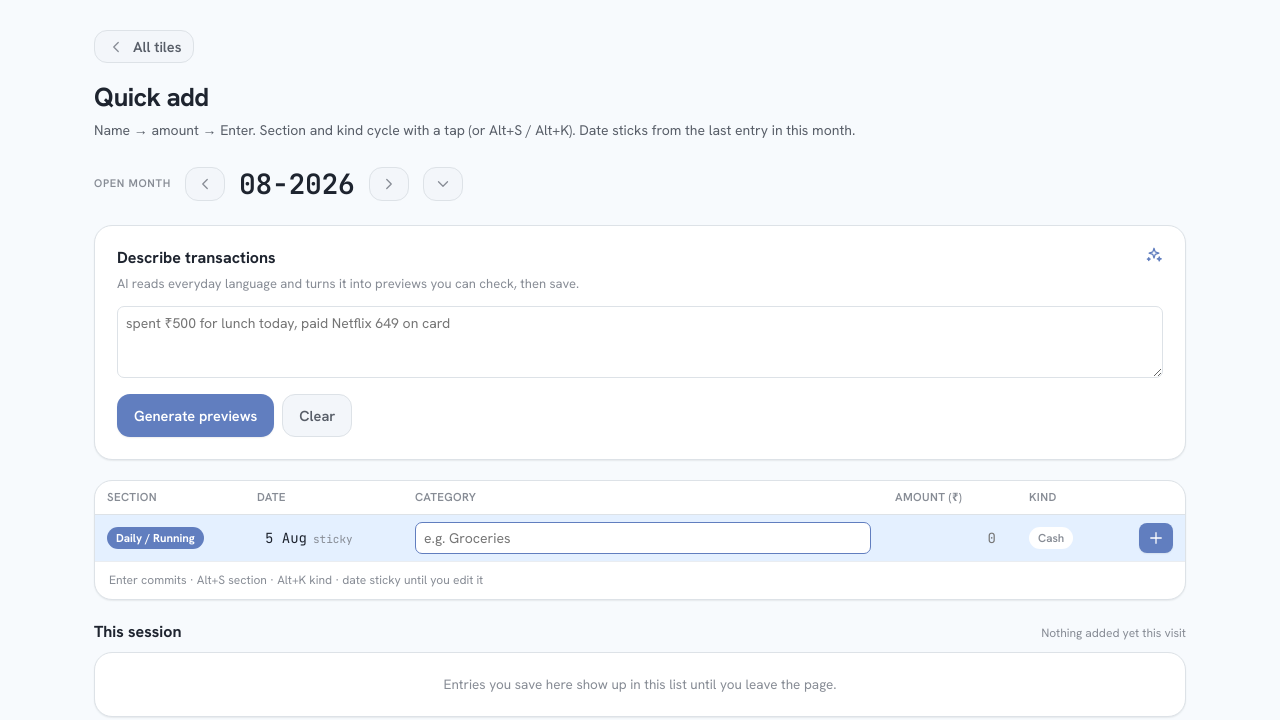
Test: RecordEntryPage AI previews › sends the local reference date and does not create until save
Expected: the heading "Quick add" is shown, [94,80,208,114]
Type "spent 500 on lunch" into the text box labelled "Describe transactions" at (640, 342), box [117,306,1163,378]
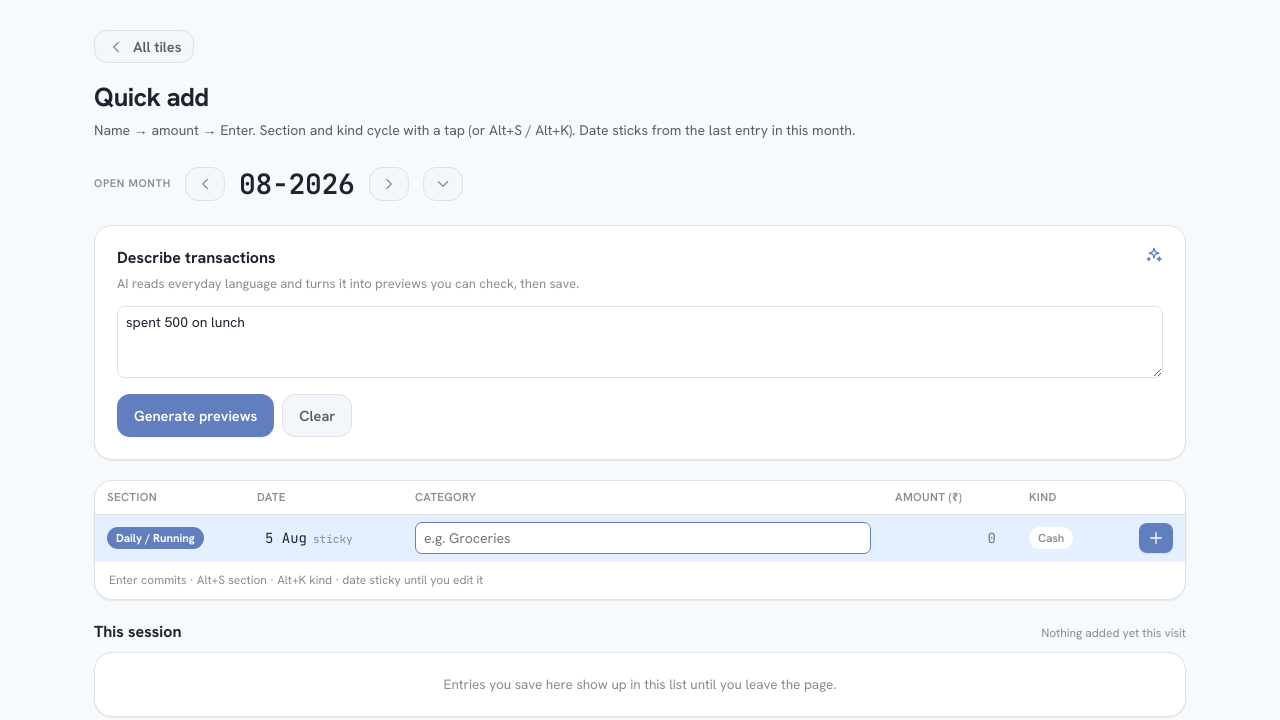
Click the button "Generate previews" at (196, 416), box [117,394,274,437]
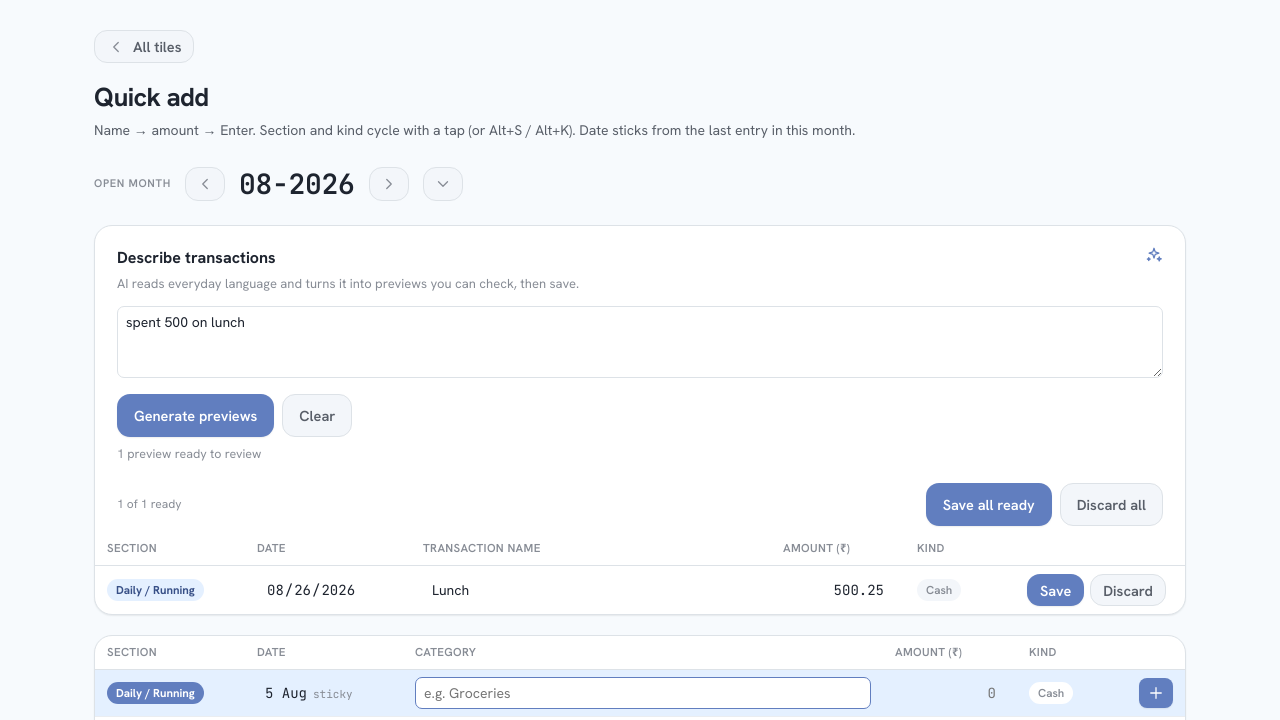
Expected: the text "1 preview ready to review" is shown, [117,445,262,462]
Expected: the dropdown showing "Lunch" is shown, [423,574,759,606]
Expected: the field showing "500.25" is shown, [783,574,893,606]
